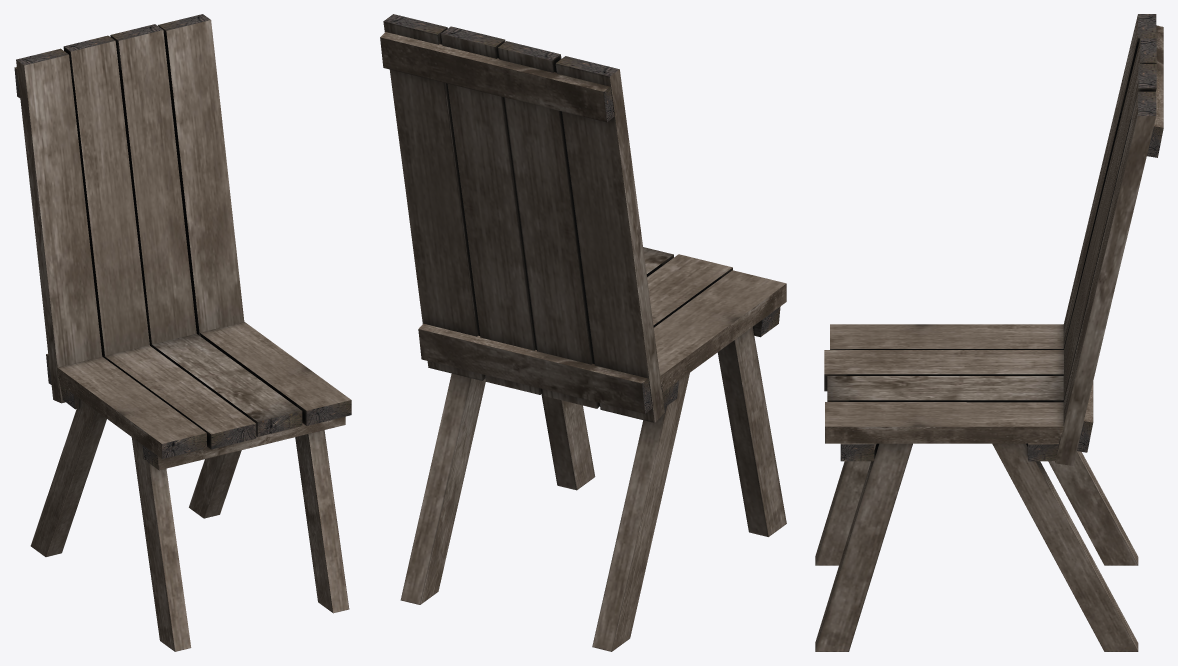
File: Chair.dae
3 views of the same model, side by side, from view 1: azimuth 30°, elevation 25°; view 2: azimuth 150°, elevation 25°; view 3: azimuth 270°, elevation 25° (orthographic). The views are drawn at different scales.
Parts seen in each view (by area): view 1: Chair; view 2: Chair; view 3: Chair.
Boxes of the visible parts, left/top/right/bottom form: Chair: left=14, top=14, right=351, bottom=651; Chair: left=380, top=14, right=786, bottom=651; Chair: left=815, top=14, right=1163, bottom=651.
Size of the model in its own units: 0.5115 by 1.25 by 0.7327.
1 material, 1 textured.
